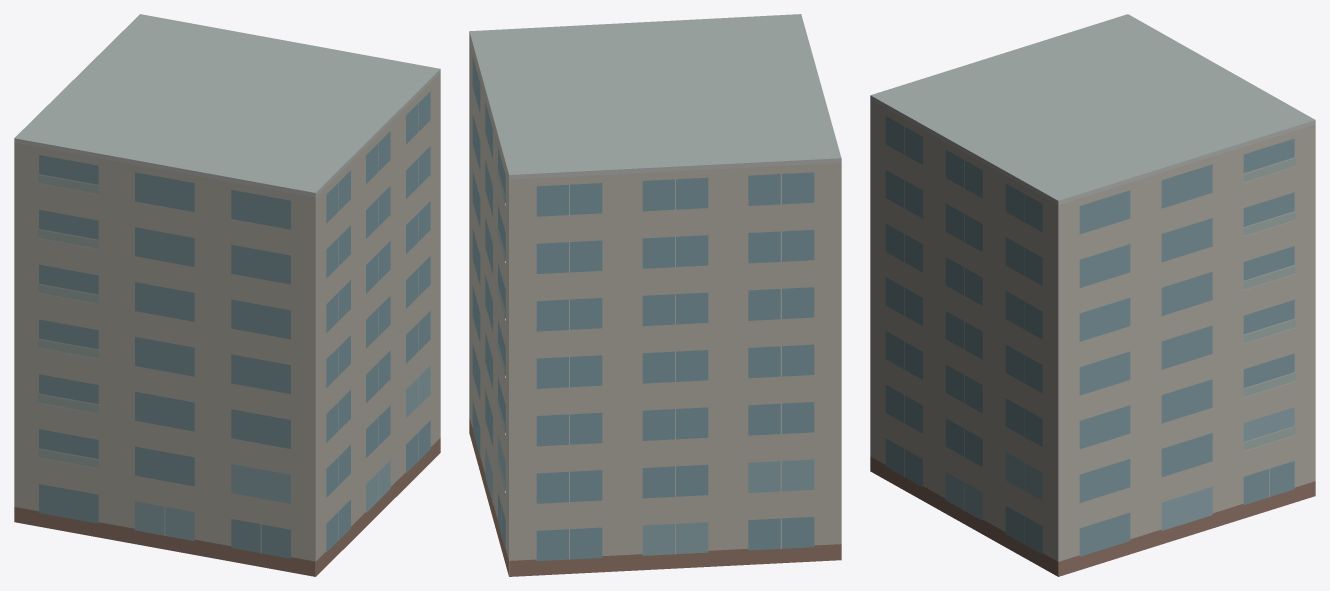
File: survey-upis-32978219.glb
3 views of the same model, side by side, from view 1: azimuth 30°, elevation 25°; view 2: azimuth 150°, elevation 25°; view 3: azimuth 270°, elevation 25° (orthographic). The views are drawn at different scales.
Visible parts, largest first — view 1: survey-upis-32978219.tmp; view 2: survey-upis-32978219.tmp; view 3: survey-upis-32978219.tmp.
Boxes of the visible parts, left/top/right/bottom form: survey-upis-32978219.tmp: left=14, top=14, right=440, bottom=576; survey-upis-32978219.tmp: left=469, top=14, right=841, bottom=576; survey-upis-32978219.tmp: left=870, top=14, right=1315, bottom=576.
Bounding box in the file's own units: 22.71 × 21.3 × 22.87.
